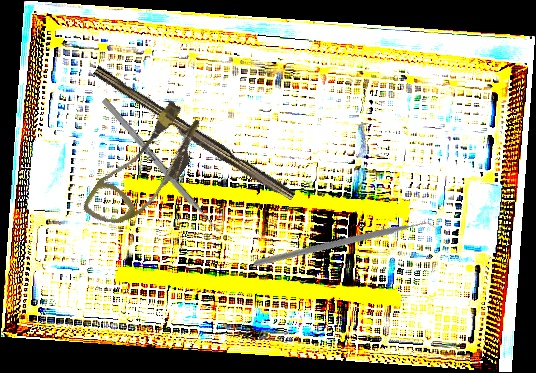Cannula: (80, 91, 212, 245)
Chopper: (252, 152, 442, 342)
Pusher: (101, 97, 227, 242)
Scalpel Handle: (89, 65, 298, 205)
